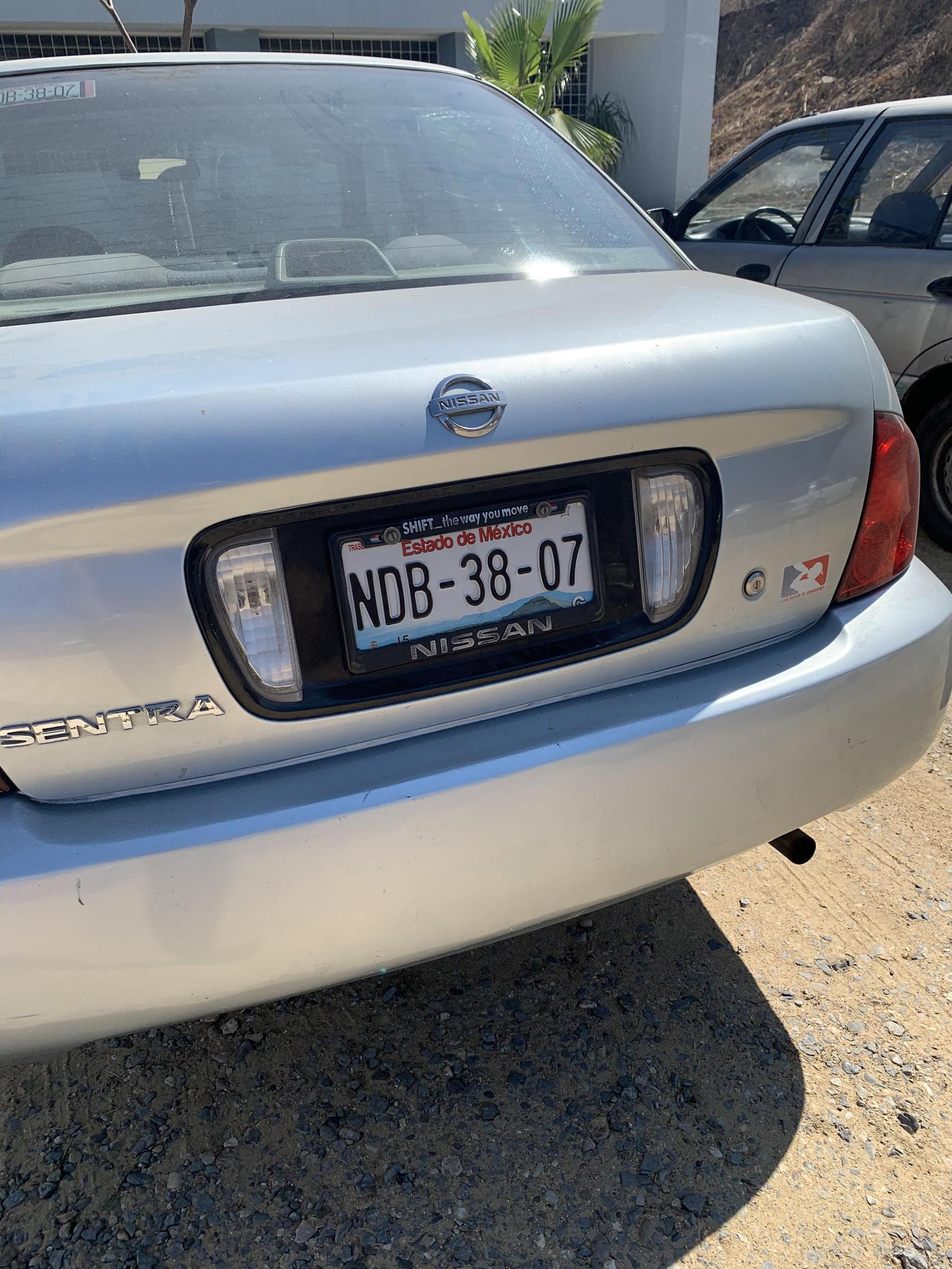License_Plate: (317, 482, 611, 667)
